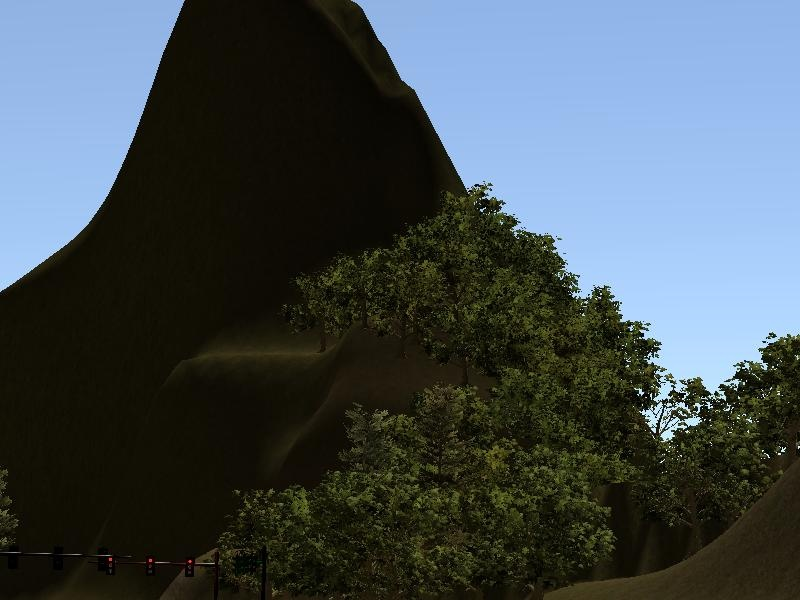Red: (106, 556, 115, 576), (185, 558, 194, 578), (146, 557, 155, 576)
